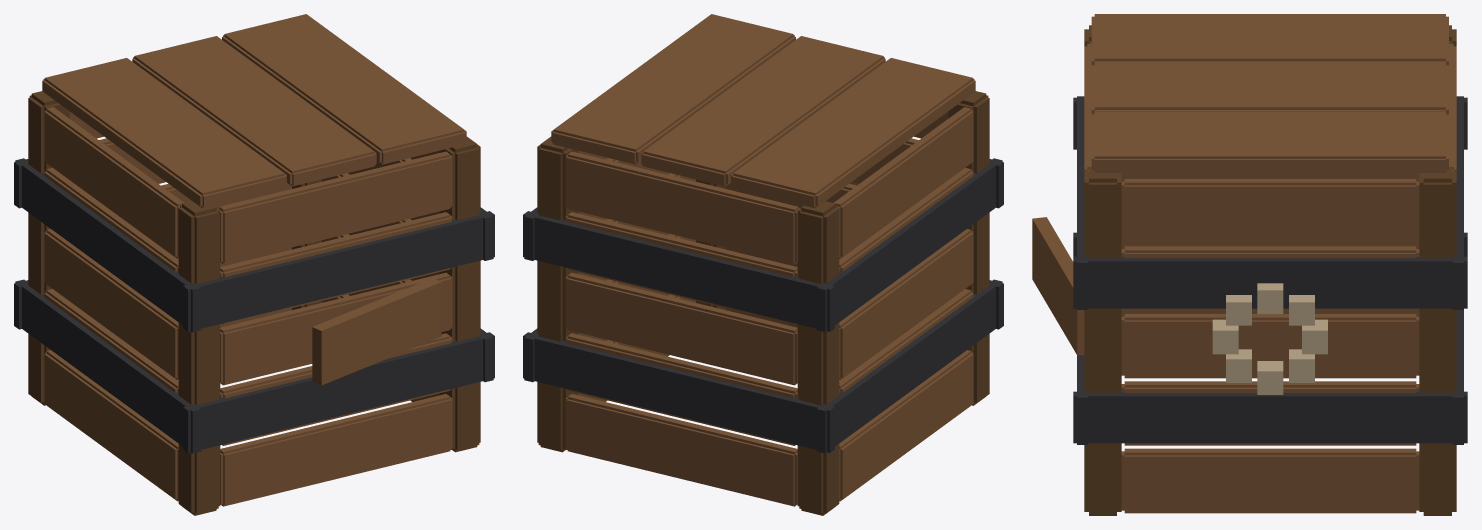
File: FloatingCrate.fbx
3 renders of one model, left to right at view 1: azimuth 30°, elevation 25°; view 2: azimuth 150°, elevation 25°; view 3: azimuth 270°, elevation 25°, orthographic. The views are drawn at different scales.
Parts seen in each view (by area): view 1: FloatingCrate; view 2: FloatingCrate; view 3: FloatingCrate.
Boxes of the visible parts, x1=… form: FloatingCrate: x1=14, y1=14, x2=494, y2=515; FloatingCrate: x1=523, y1=14, x2=1003, y2=515; FloatingCrate: x1=1032, y1=14, x2=1467, y2=515.
Bounding box in the file's own units: 1.1 × 1.05 × 1.17.
